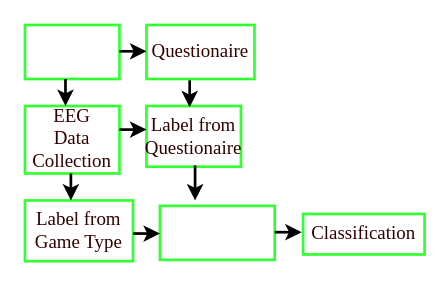
Image size: 448x285. Some labels were removed from this diagram. The centre of each missing label's shape, as x and y in pixels:
Feature Extraction: the point at 216,232
Subject Play Game: the point at 71,51
